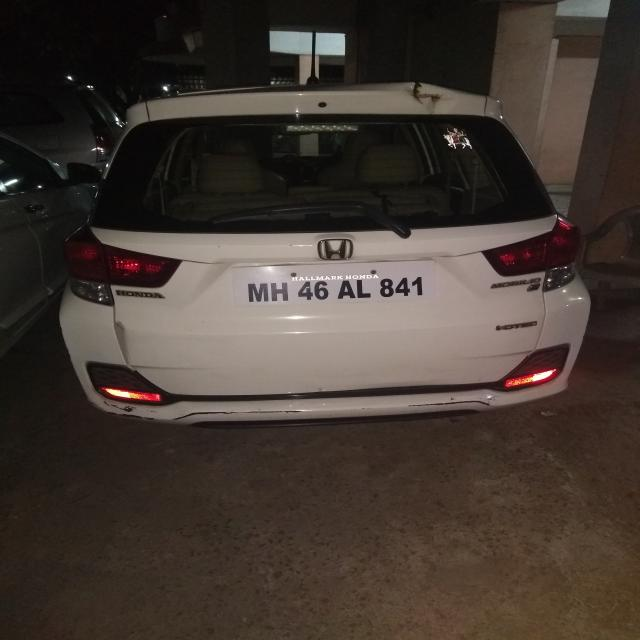Number-Plate: (241, 267, 443, 309)
